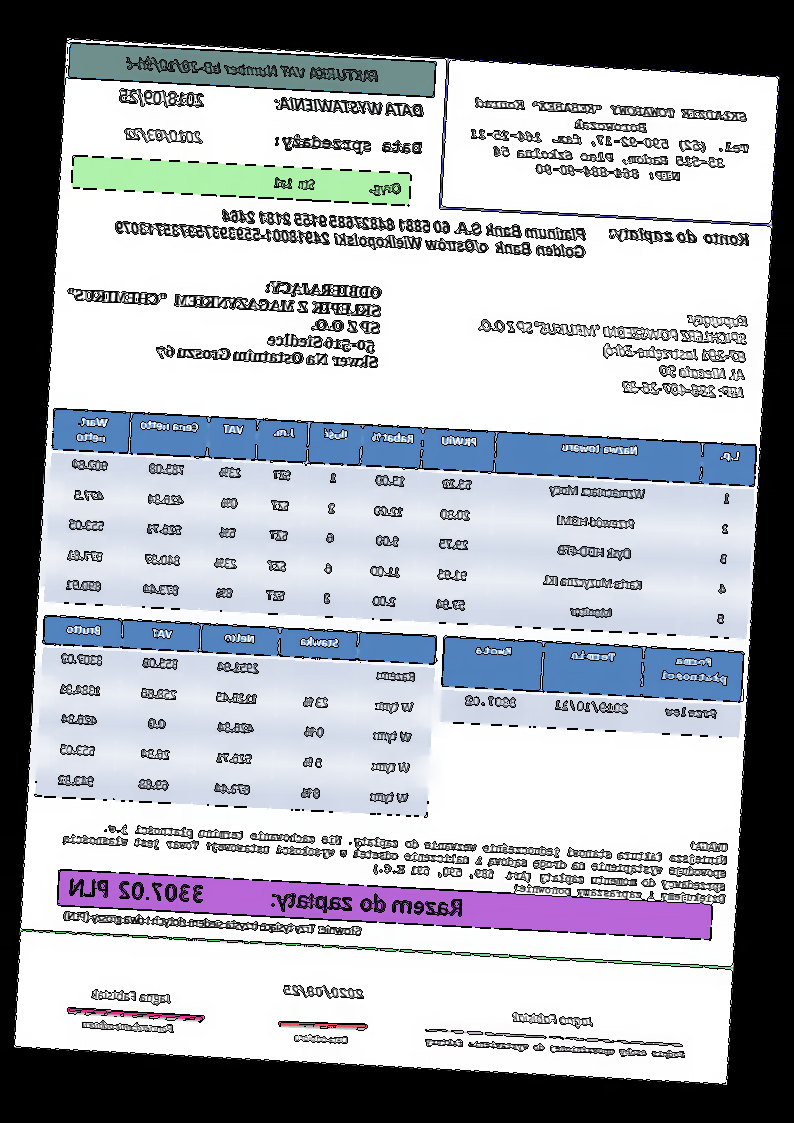Table: (42, 406, 759, 639), (34, 615, 437, 819), (438, 634, 747, 740)
TextBox: (61, 807, 730, 907), (64, 269, 384, 371), (114, 200, 589, 261), (475, 298, 752, 401), (466, 94, 751, 187), (67, 874, 466, 923), (62, 908, 365, 941), (122, 54, 382, 86), (424, 1034, 688, 1062), (272, 130, 425, 160), (607, 223, 753, 252), (272, 94, 426, 120), (271, 174, 404, 199), (117, 85, 207, 110), (80, 1017, 176, 1036), (91, 987, 174, 1006), (123, 126, 204, 145), (511, 1010, 596, 1028), (281, 983, 366, 1001), (292, 1031, 351, 1047)
